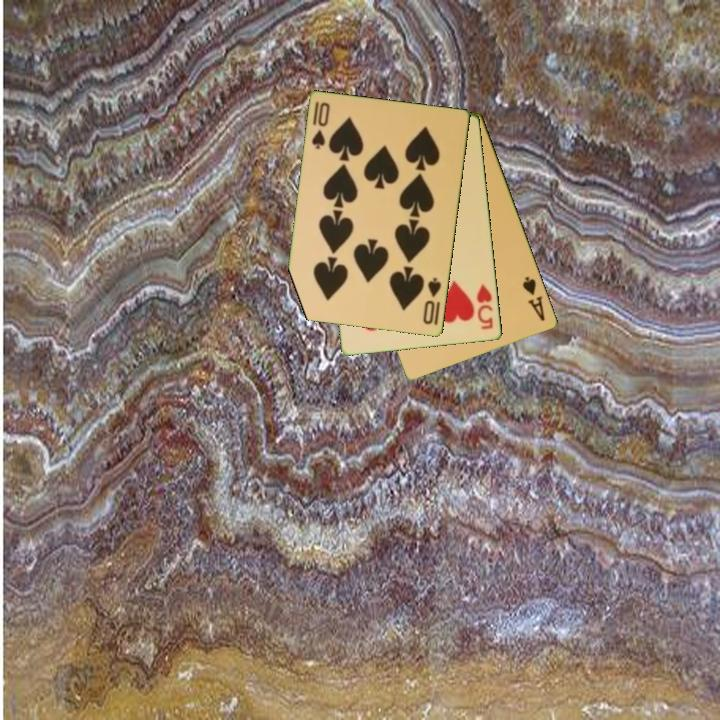10s: (308, 98, 333, 152), (420, 274, 444, 327)
5h: (473, 281, 496, 332)
As: (519, 273, 548, 324)
